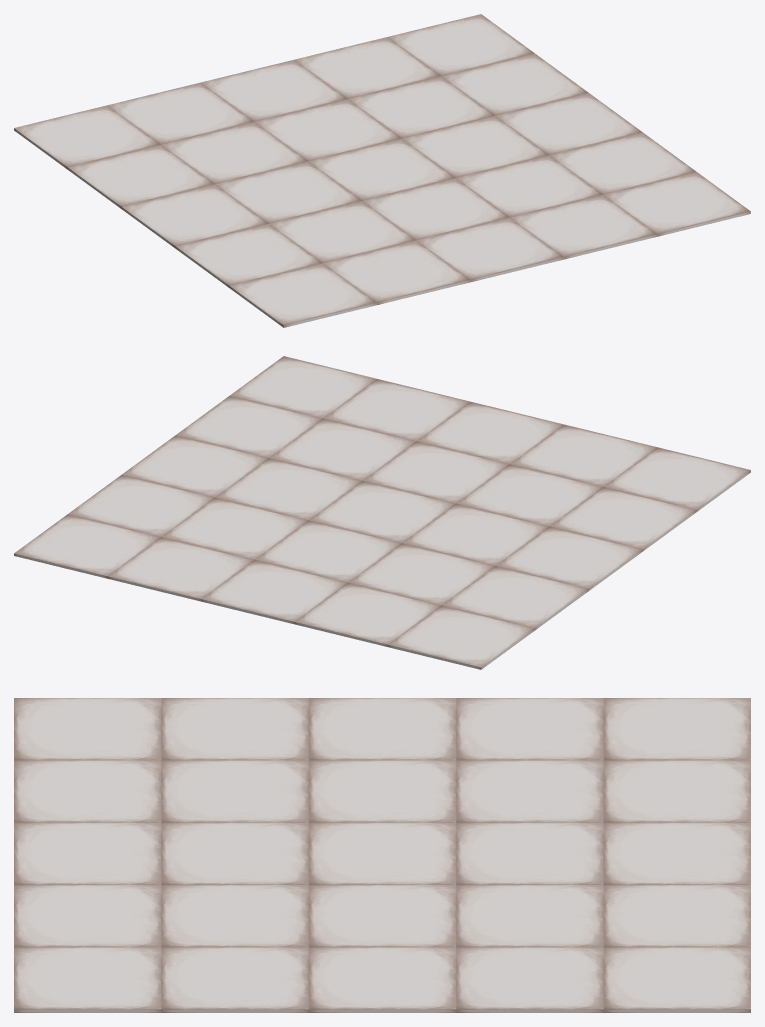
Rendered from tile25.obj.
3 views of the same model, one above another, from view 1: azimuth 30°, elevation 25°; view 2: azimuth 150°, elevation 25°; view 3: azimuth 270°, elevation 25° (orthographic). The views are drawn at different scales.
Parts seen in each view (by area): view 1: group pasted__pCube19, group pasted__pCube14, group pasted__pCube13, group pasted__pCube15, group pasted__pCube12, group pasted__pCube21, group pasted__pCube20, group pasted__pCube22, pCube6, pCube4, group pasted__pCube9, pCube2 (+13 smaller); view 2: group pasted__pCube22, group pasted__pCube10, group pasted__pCube11, group pasted__pCube18, group pasted__pCube9, group pasted__pCube20, group pasted__pCube19, group pasted__pCube21, pCube6, pCube4, group pasted__pCube12, pCube2 (+13 smaller); view 3: pCube5, group pasted__pCube15, group pasted__pCube16, group pasted__pCube17, group pasted__pCube18, pCube4, pCube2, pCube3, pCube6, group pasted__pCube3, group pasted__pCube4, group pasted__pCube5 (+13 smaller).
Boxes of the visible parts, x1,y1,x2,y2 form: group pasted__pCube19: (229, 263, 377, 327); group pasted__pCube14: (510, 195, 657, 259); group pasted__pCube13: (417, 217, 563, 281); group pasted__pCube15: (604, 172, 750, 236); group pasted__pCube12: (323, 240, 470, 304); group pasted__pCube21: (68, 144, 214, 209); group pasted__pCube20: (176, 224, 322, 287); group pasted__pCube22: (14, 105, 160, 169); pCube6: (122, 184, 268, 248); pCube4: (215, 161, 362, 223); group pasted__pCube9: (107, 82, 254, 144); pCube2: (309, 138, 455, 200); group pasted__pCube22: (387, 605, 535, 669); group pasted__pCube10: (107, 537, 254, 601); group pasted__pCube11: (201, 559, 347, 623); group pasted__pCube18: (14, 514, 160, 578); group pasted__pCube9: (294, 582, 441, 646); group pasted__pCube20: (550, 486, 696, 551); group pasted__pCube19: (604, 447, 750, 511); group pasted__pCube21: (442, 566, 588, 629); pCube6: (496, 526, 642, 590); pCube4: (402, 503, 549, 565); group pasted__pCube12: (510, 424, 657, 486); pCube2: (309, 480, 455, 542); pCube5: (308, 947, 456, 1012); group pasted__pCube15: (14, 947, 161, 1012); group pasted__pCube16: (161, 947, 308, 1012); group pasted__pCube17: (456, 947, 603, 1012); group pasted__pCube18: (603, 947, 750, 1012); pCube4: (308, 760, 456, 822); pCube2: (308, 822, 456, 884); pCube3: (308, 885, 456, 947); pCube6: (308, 698, 456, 760); group pasted__pCube3: (161, 822, 308, 884); group pasted__pCube4: (456, 822, 603, 884); group pasted__pCube5: (456, 885, 603, 947).
Bounding box in the file's own units: 5 × 0.025 × 5.
2 materials, 2 textured.
